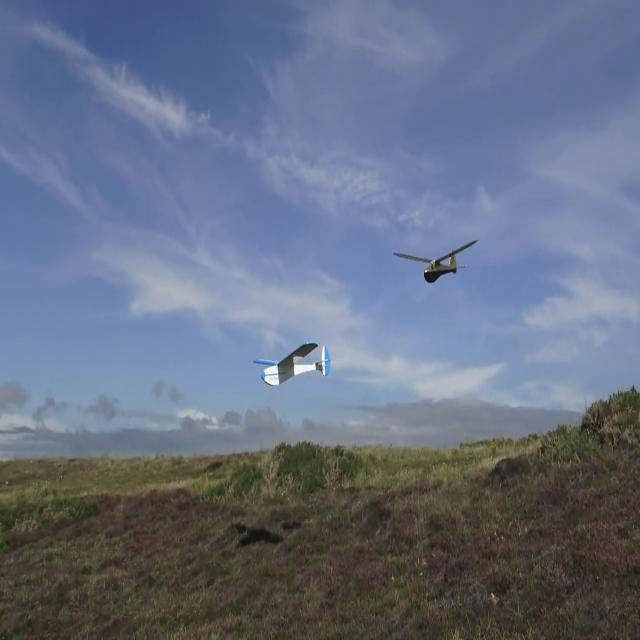iha: (425, 237, 448, 286), (284, 340, 299, 388)
